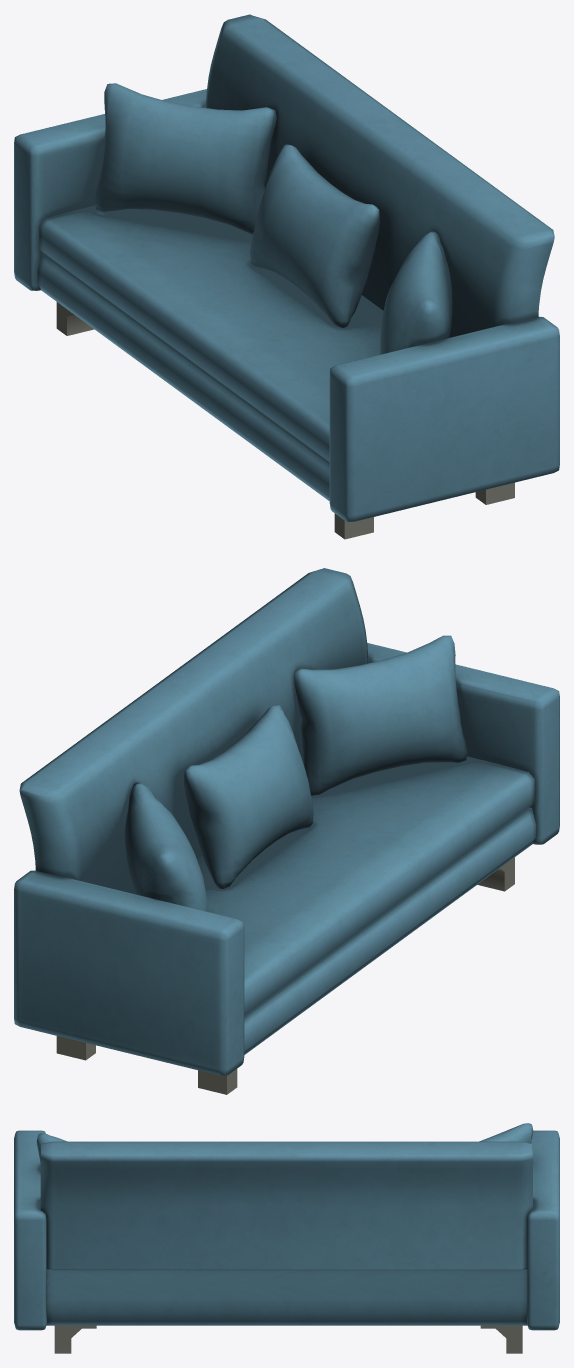
Rendered from sofa.glb.
The picture shows the model from 3 angles, top to bottom: view 1: azimuth 30°, elevation 25°; view 2: azimuth 150°, elevation 25°; view 3: azimuth 270°, elevation 25°; orthographic projection. The views are drawn at different scales.
Parts seen in each view (by area): view 1: Sofa-material.001; view 2: Sofa-material.001; view 3: Sofa-material.001.
Part boxes in pixels (<box>): Sofa-material.001: <box>14,14,559,539</box>; Sofa-material.001: <box>14,568,559,1094</box>; Sofa-material.001: <box>14,1123,559,1353</box>.
Size of the model in its own units: 1.54 by 1.68 by 3.92.
Materials: 1 (1 with a texture image).
